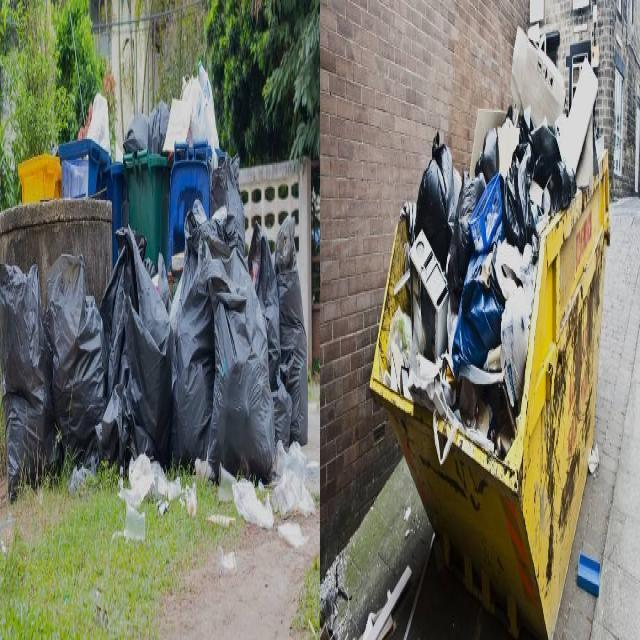E_waste: (410, 228, 448, 361)
Garbage: (0, 158, 308, 499), (378, 33, 601, 463), (139, 105, 170, 140)
Plastic: (470, 175, 502, 254)
Plastic_Bag: (96, 228, 174, 464), (208, 249, 275, 479), (44, 254, 108, 457), (0, 267, 55, 499), (170, 197, 215, 464), (248, 223, 291, 451), (275, 214, 308, 444), (452, 254, 502, 381), (415, 131, 454, 269), (446, 175, 485, 311), (500, 284, 534, 407), (211, 153, 246, 265), (502, 144, 535, 254), (529, 122, 560, 188), (546, 162, 576, 214), (475, 127, 499, 184)
